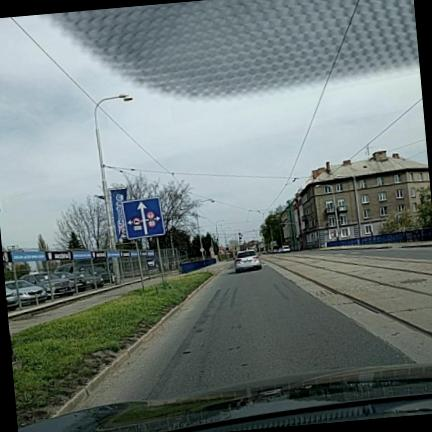Road: (83, 265, 409, 406), (299, 247, 431, 260)
